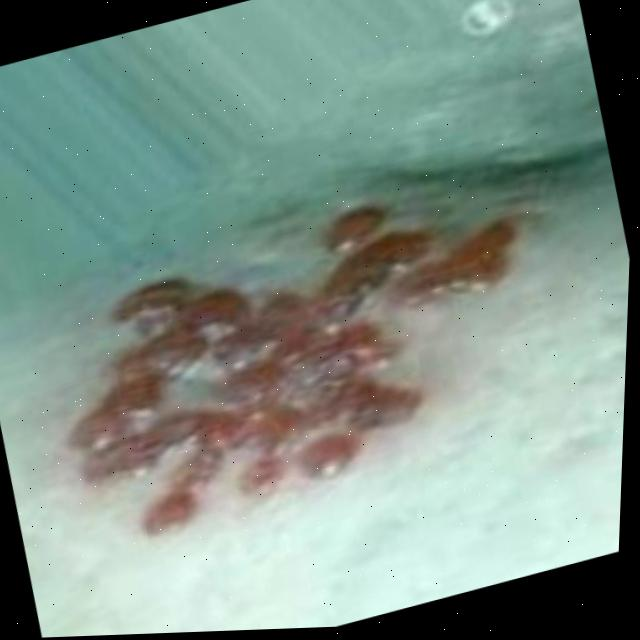Shingles: (23, 153, 560, 554)
